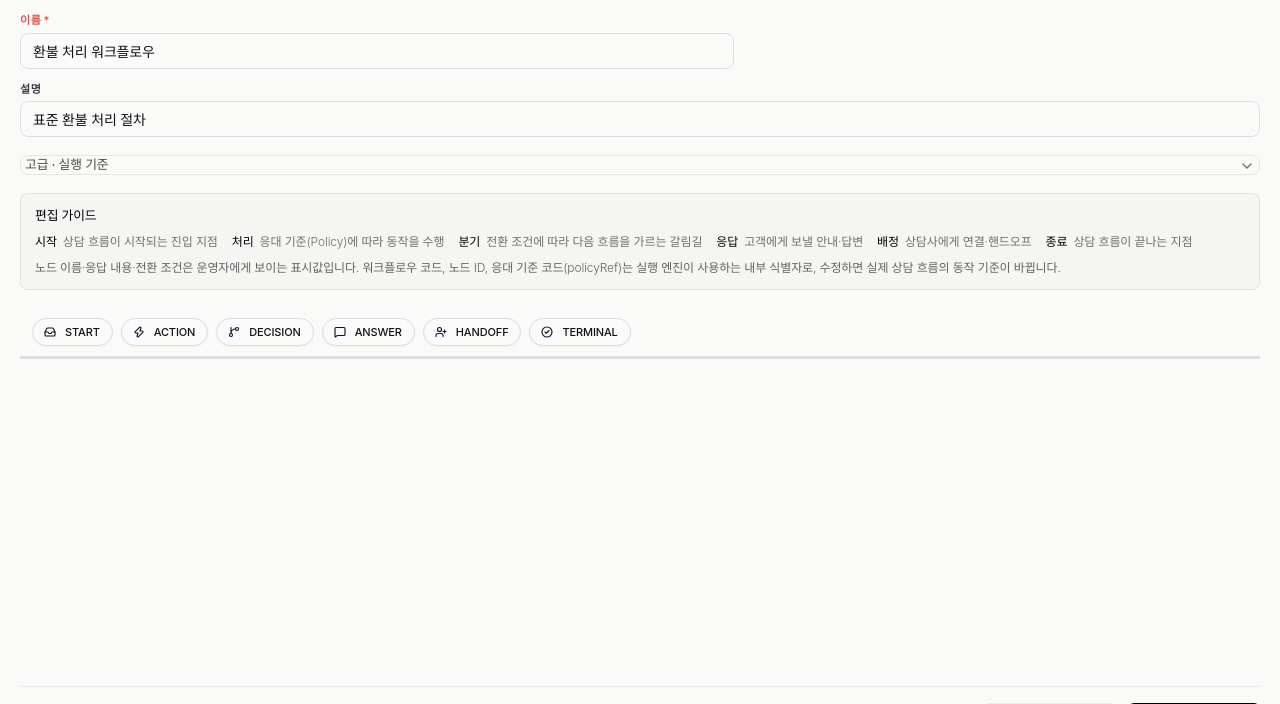
Test: WorkflowEditForm › 고급 · 실행 기준 섹션에서 워크플로우 코드를 disabled read-only로 보여준다
What coordinates should you click on to do the following:
click the button "고급 · 실행 기준"
I would click on:
 (67, 164)
Its box is [25,156,1255,174].
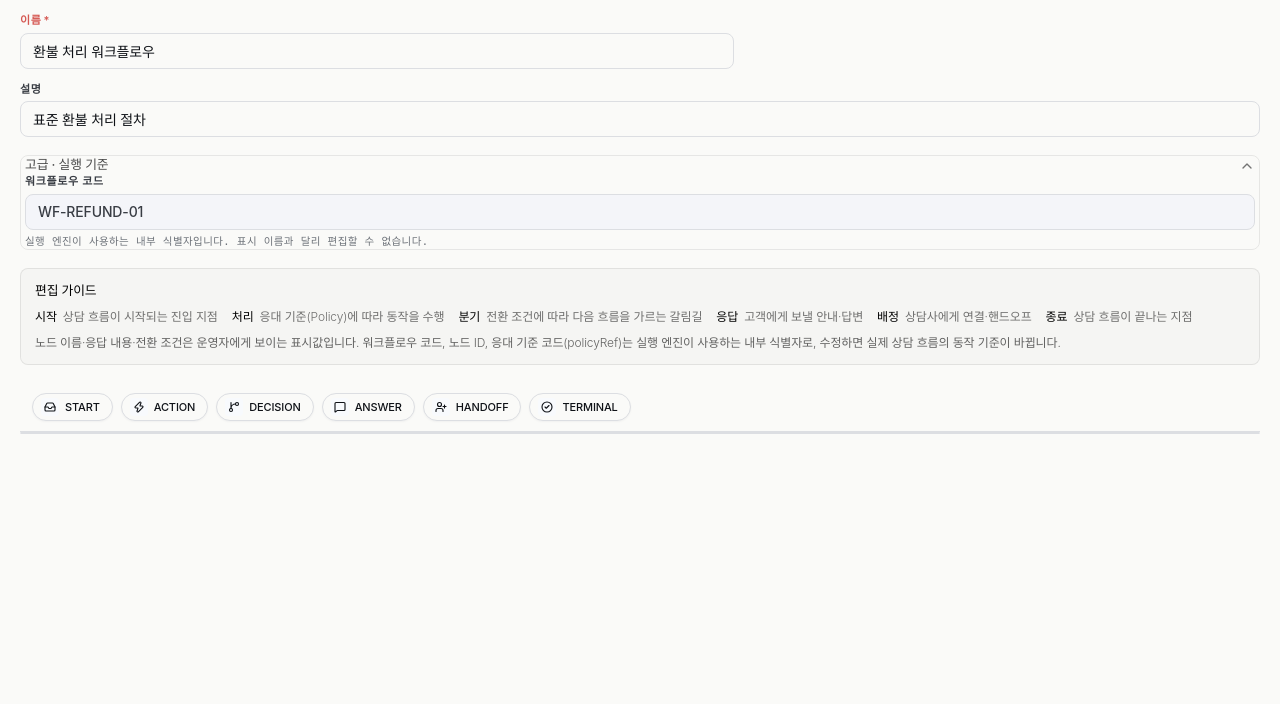
Expected: the field showing "WF-REFUND-01" is disabled, [25,194,1255,230]
